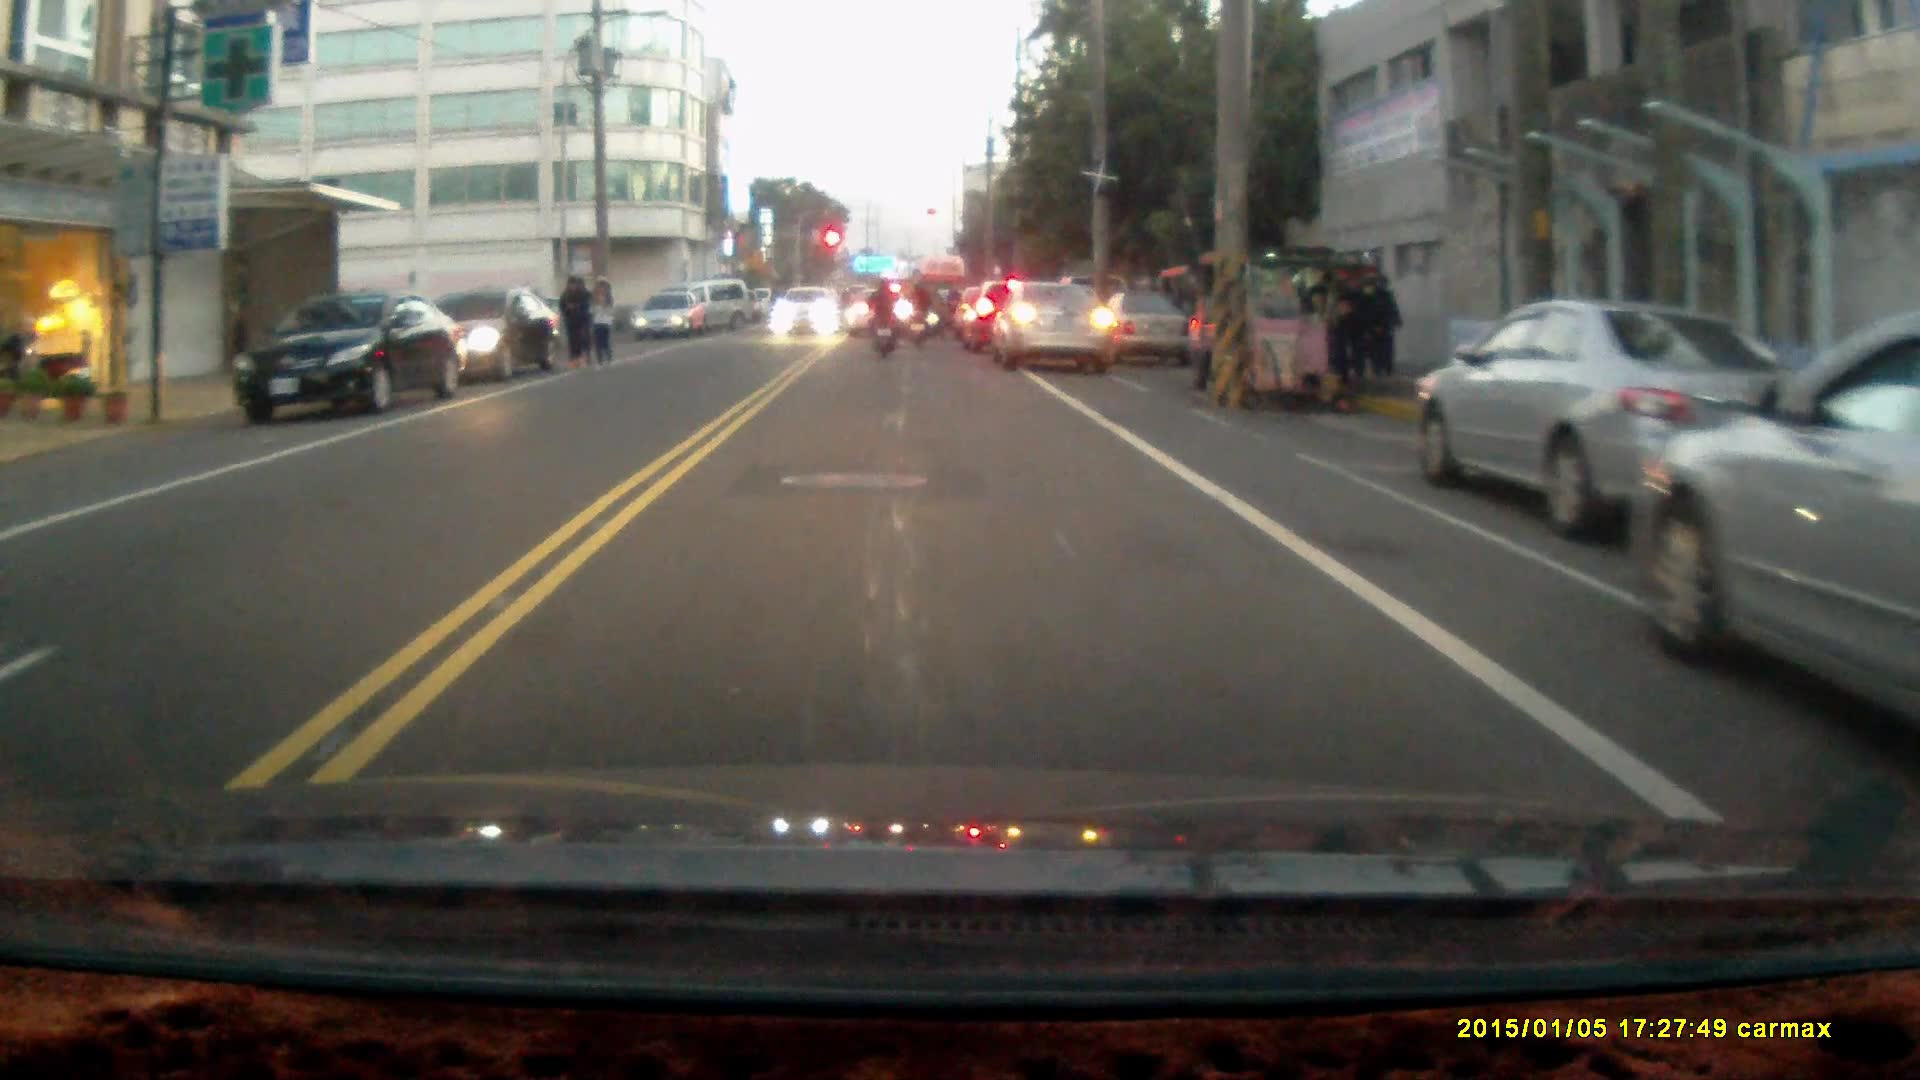pedestrian: (1363, 272, 1404, 388), (556, 273, 594, 373), (588, 278, 614, 372)
rider: (865, 277, 899, 362), (903, 279, 933, 349)
vehicle: (1632, 326, 1920, 750), (1409, 302, 1834, 544), (1185, 256, 1390, 417), (231, 288, 466, 425), (431, 292, 569, 389), (996, 285, 1118, 380), (774, 290, 846, 345), (636, 295, 715, 346)
